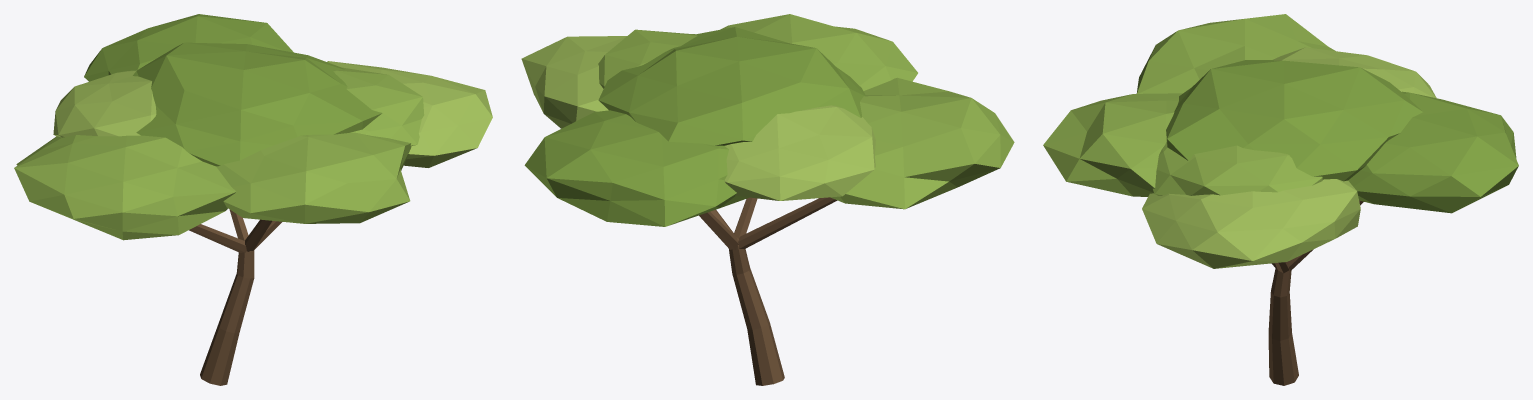
The model's file is TREE_10.obj.
The picture shows the model from 3 angles, left to right: view 1: azimuth 30°, elevation 25°; view 2: azimuth 150°, elevation 25°; view 3: azimuth 270°, elevation 25°; orthographic projection. The views are drawn at different scales.
Visible parts, largest first — view 1: canopy, trunk, branches; view 2: canopy, trunk, branches; view 3: canopy, trunk.
Boxes of the visible parts, left/top/right/bottom form: canopy: left=14, top=14, right=492, bottom=240; trunk: left=200, top=250, right=254, bottom=385; branches: left=189, top=210, right=282, bottom=252; canopy: left=521, top=14, right=1014, bottom=226; trunk: left=729, top=237, right=784, bottom=385; branches: left=699, top=197, right=837, bottom=250; canopy: left=1043, top=14, right=1518, bottom=268; trunk: left=1268, top=268, right=1298, bottom=385.
Size of the model in its own units: 13.73 by 8.73 by 12.11.
